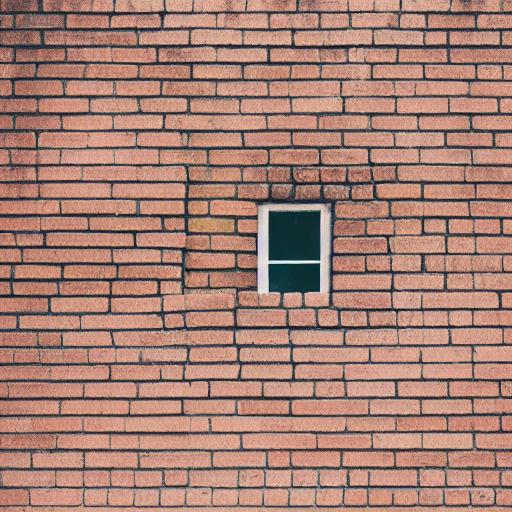Window: (254, 197, 336, 298)
